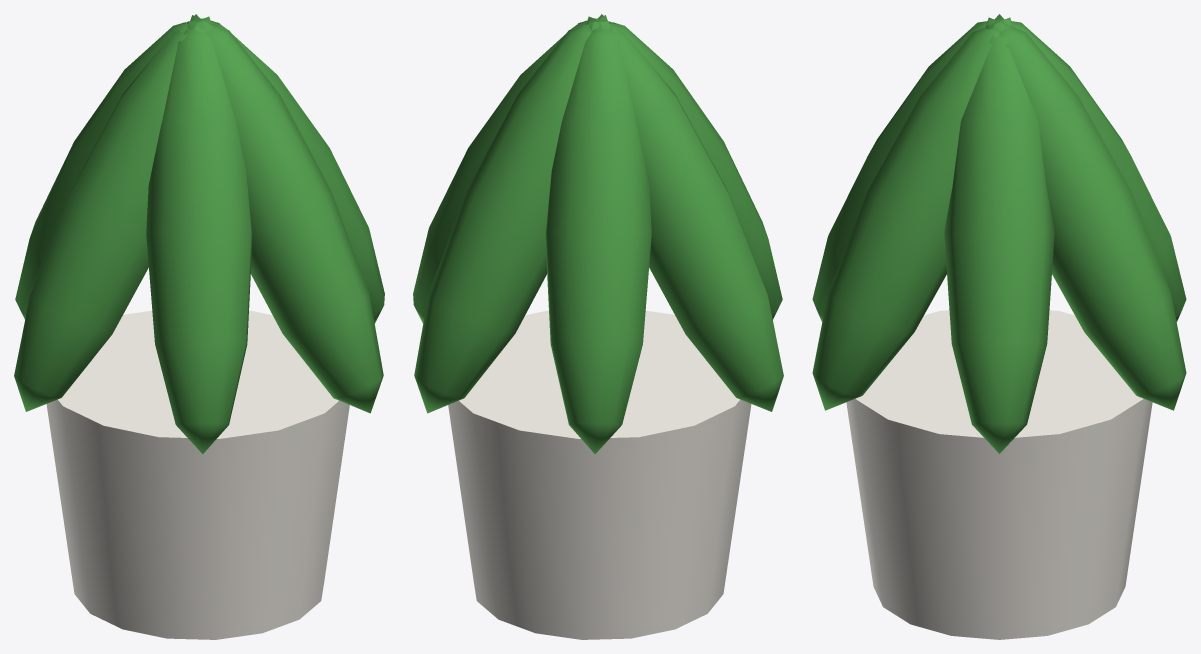
The model's file is plant_pot.glb.
3 renders of one model, left to right at view 1: azimuth 30°, elevation 25°; view 2: azimuth 150°, elevation 25°; view 3: azimuth 270°, elevation 25°, orthographic.
Visible parts, largest first — view 1: Pot, Leaf.004, Leaf.005, Leaf.003, Leaf.002, Leaf; view 2: Pot, Leaf.002, Leaf.001, Leaf.003, Leaf.004, Leaf; view 3: Pot, Leaf, Leaf.001, Leaf.005, Leaf.002, Leaf.004.
Boxes of the visible parts, <box> form: Pot: <box>46,310,349,639</box>; Leaf.004: <box>146,14,252,453</box>; Leaf.005: <box>190,15,383,413</box>; Leaf.003: <box>14,16,211,411</box>; Leaf.002: <box>15,22,208,319</box>; Leaf: <box>187,21,384,323</box>; Pot: <box>448,310,751,639</box>; Leaf.002: <box>545,14,651,453</box>; Leaf.001: <box>414,15,607,413</box>; Leaf.003: <box>586,16,783,411</box>; Leaf.004: <box>589,22,782,319</box>; Leaf: <box>413,21,610,323</box>; Pot: <box>846,310,1152,639</box>; Leaf: <box>944,14,1054,453</box>; Leaf.001: <box>985,17,1186,410</box>; Leaf.005: <box>812,17,1013,410</box>; Leaf.002: <box>986,19,1186,321</box>; Leaf.004: <box>812,19,1012,321</box>.
Bounding box in the file's own units: 0.5309 × 0.7963 × 0.4749.
